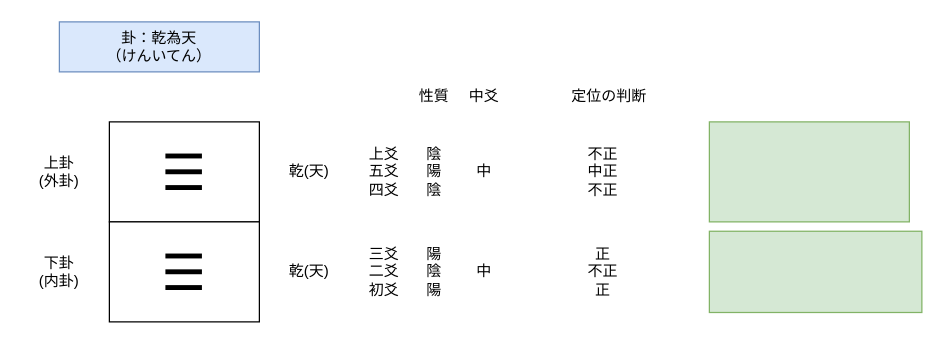
The diagram is 944 pixels wide and 344 high, and some of its shapes have lost their labels. Here are the shapes that lost their labels. From the top down, the centre of each, then its label:
pixel 808 171: 【定位】 正：爻が性質と一致 不正： 爻が性質と不一致 剛中：五爻が陽 柔中：二爻が陰
pixel 815 271: 【陰陽と数字】 陽：一＋三＋五＝九 陰：二＋四＝六
